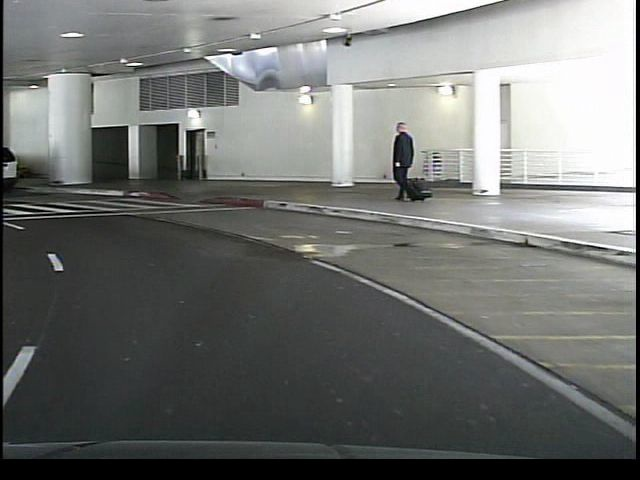person: (383, 121, 422, 201)
